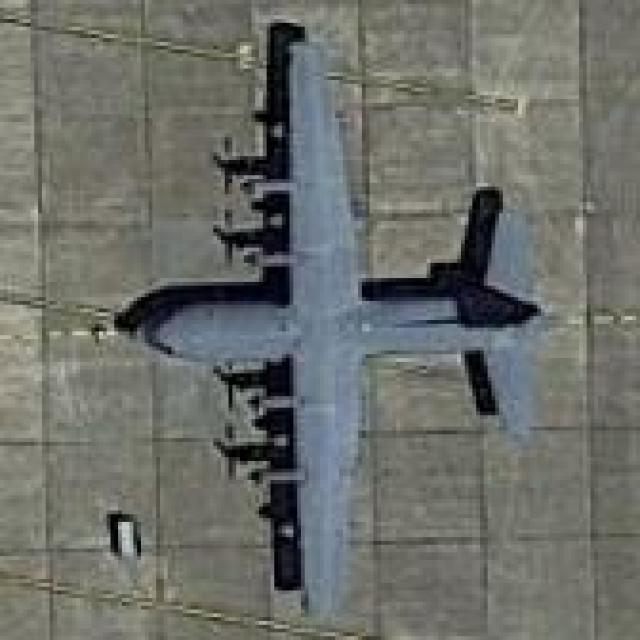C-130_TopDown: (105, 16, 555, 620)
